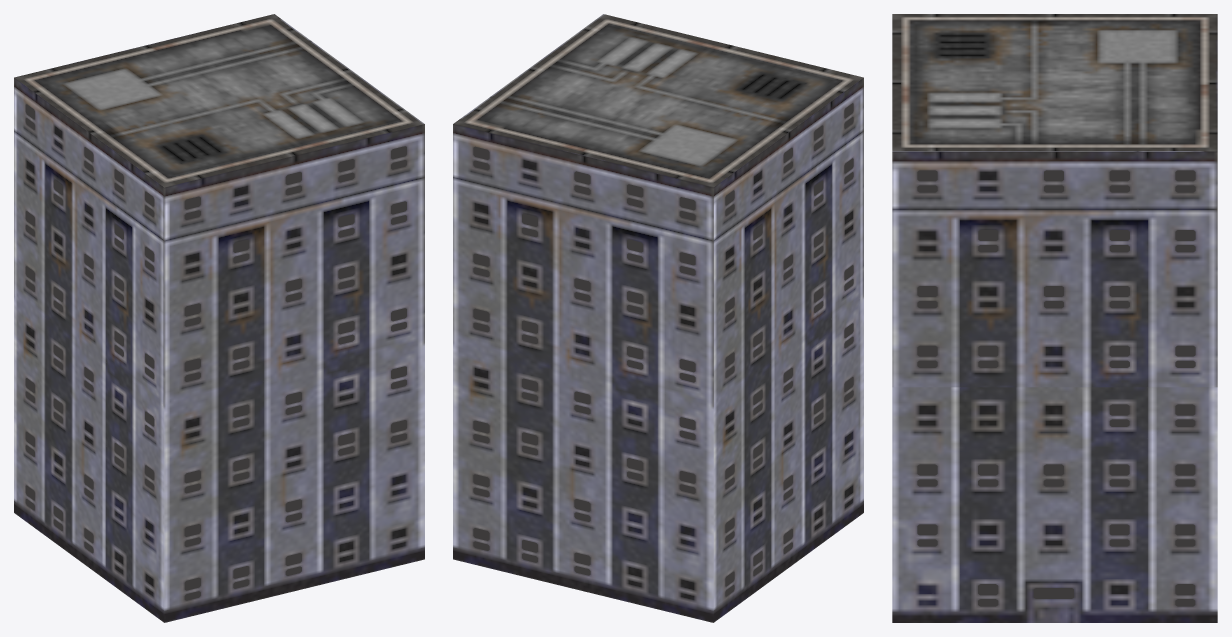
The model's file is city8storyc.glb.
The picture shows the model from 3 angles, left to right: view 1: azimuth 30°, elevation 25°; view 2: azimuth 150°, elevation 25°; view 3: azimuth 270°, elevation 25°; orthographic projection. The views are drawn at different scales.
Parts seen in each view (by area): view 1: CityBlock8Story_A, LitWin_City8Story; view 2: CityBlock8Story_A, LitWin_City8Story; view 3: CityBlock8Story_A, LitWin_City8Story.
Boxes of the visible parts, x1,y1,x2,y2 form: CityBlock8Story_A: (14,14,424,622); LitWin_City8Story: (25,104,406,600); CityBlock8Story_A: (453,14,863,622); LitWin_City8Story: (473,103,853,596); CityBlock8Story_A: (892,14,1217,622); LitWin_City8Story: (917,170,1195,606).
Bounding box in the file's own units: 17.76 × 28.37 × 17.76.
Materials: 1 (1 with a texture image).
